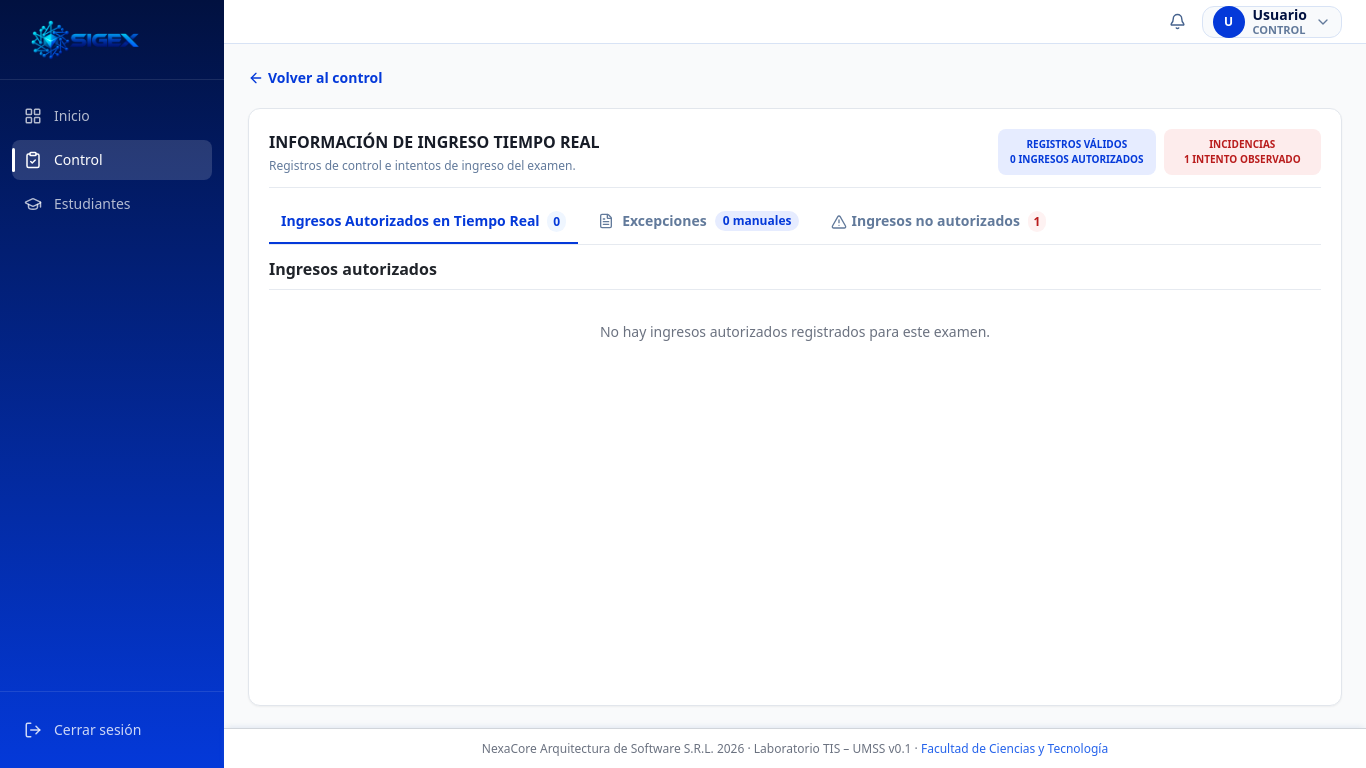
Test: el detalle presenta el número de CI o su ausencia: true / null
This screenshot has width=1366, height=768.
Expected: the text "1 intento observado" is shown, x1=1184 y1=152 x2=1301 y2=166
Click the tab "Ingresos no autorizados 1": coordinates (939, 222) x1=820 y1=200 x2=1058 y2=244
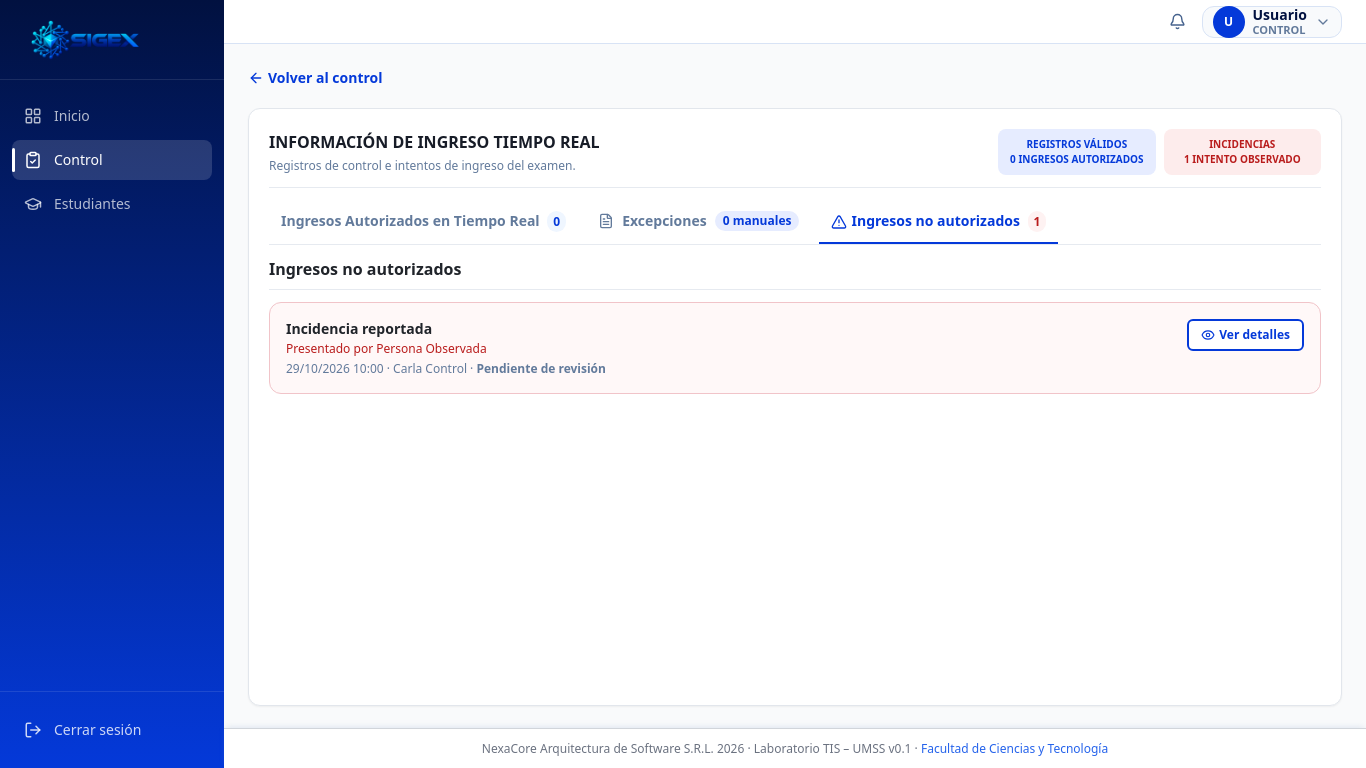
Click the button "Ver detalles": coordinates (1246, 335) x1=1187 y1=319 x2=1304 y2=351
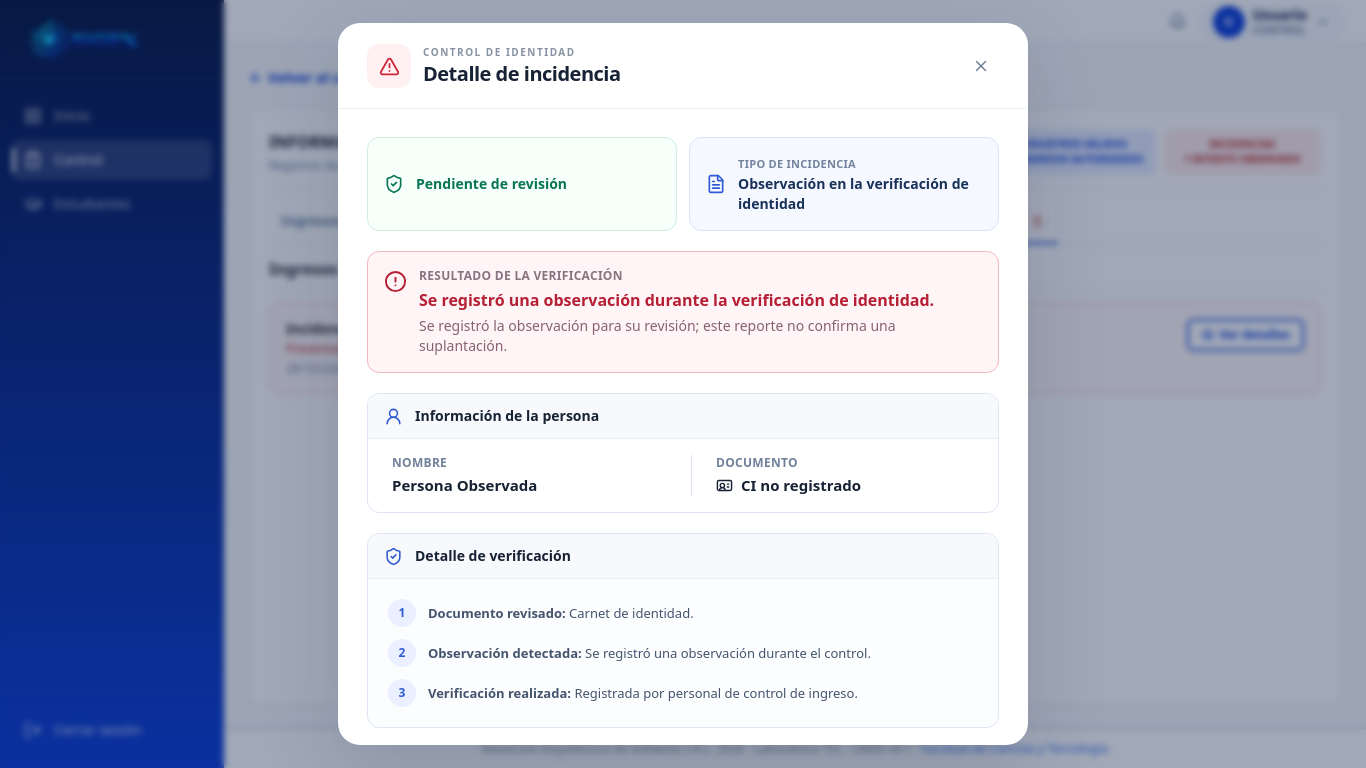
Expected: the text "CI no registrado" is shown, x1=716 y1=475 x2=861 y2=495
